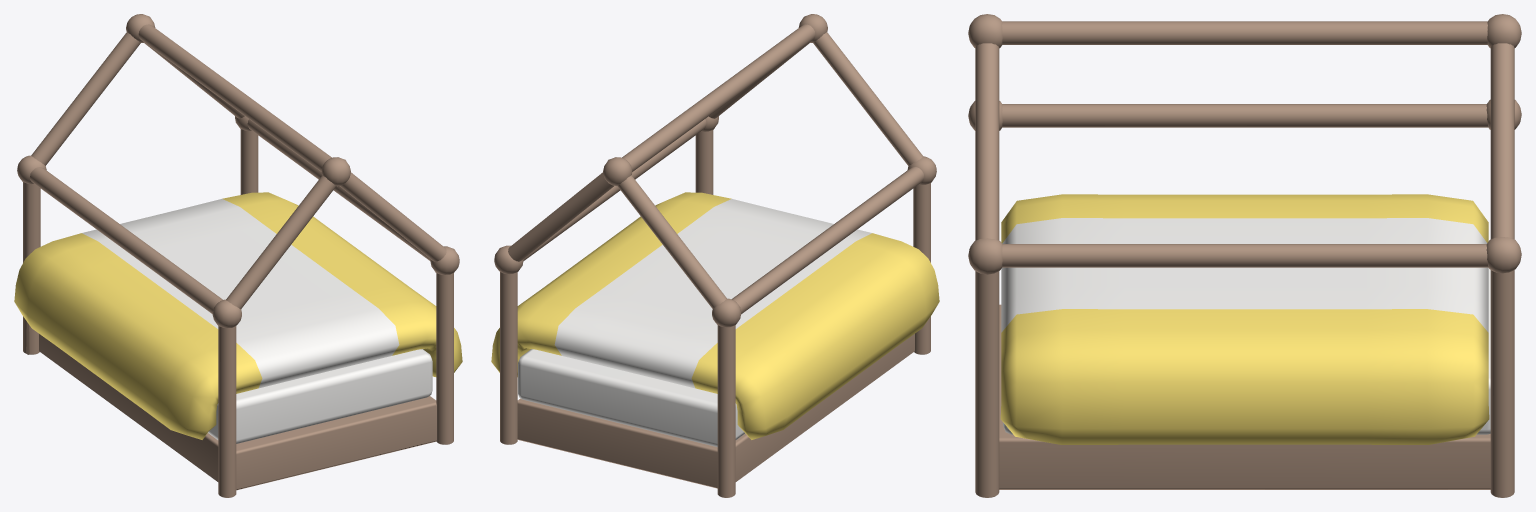
Rendered from Bed_3.glb.
3 renders of one model, left to right at view 1: azimuth 30°, elevation 25°; view 2: azimuth 150°, elevation 25°; view 3: azimuth 270°, elevation 25°, orthographic. The views are drawn at different scales.
Parts seen in each view (by area): view 1: Bed_3; view 2: Bed_3; view 3: Bed_3.
Boxes of the visible parts, box(x1,y1,x2,y2) form: Bed_3: box(14, 14, 462, 497); Bed_3: box(491, 14, 939, 497); Bed_3: box(968, 14, 1521, 497).
Bounding box in the file's own units: 2.04 × 2.13 × 2.62.
1 material, 1 textured.
